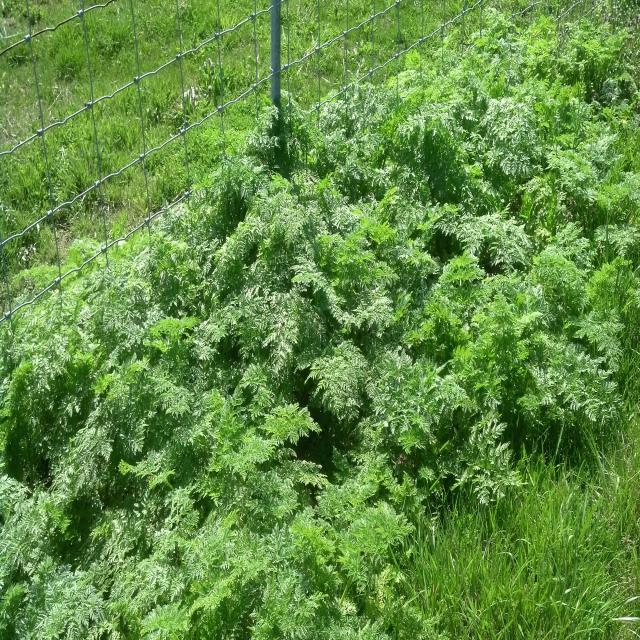Poisonous-Hemlock: (19, 384, 283, 640), (226, 190, 411, 380)
